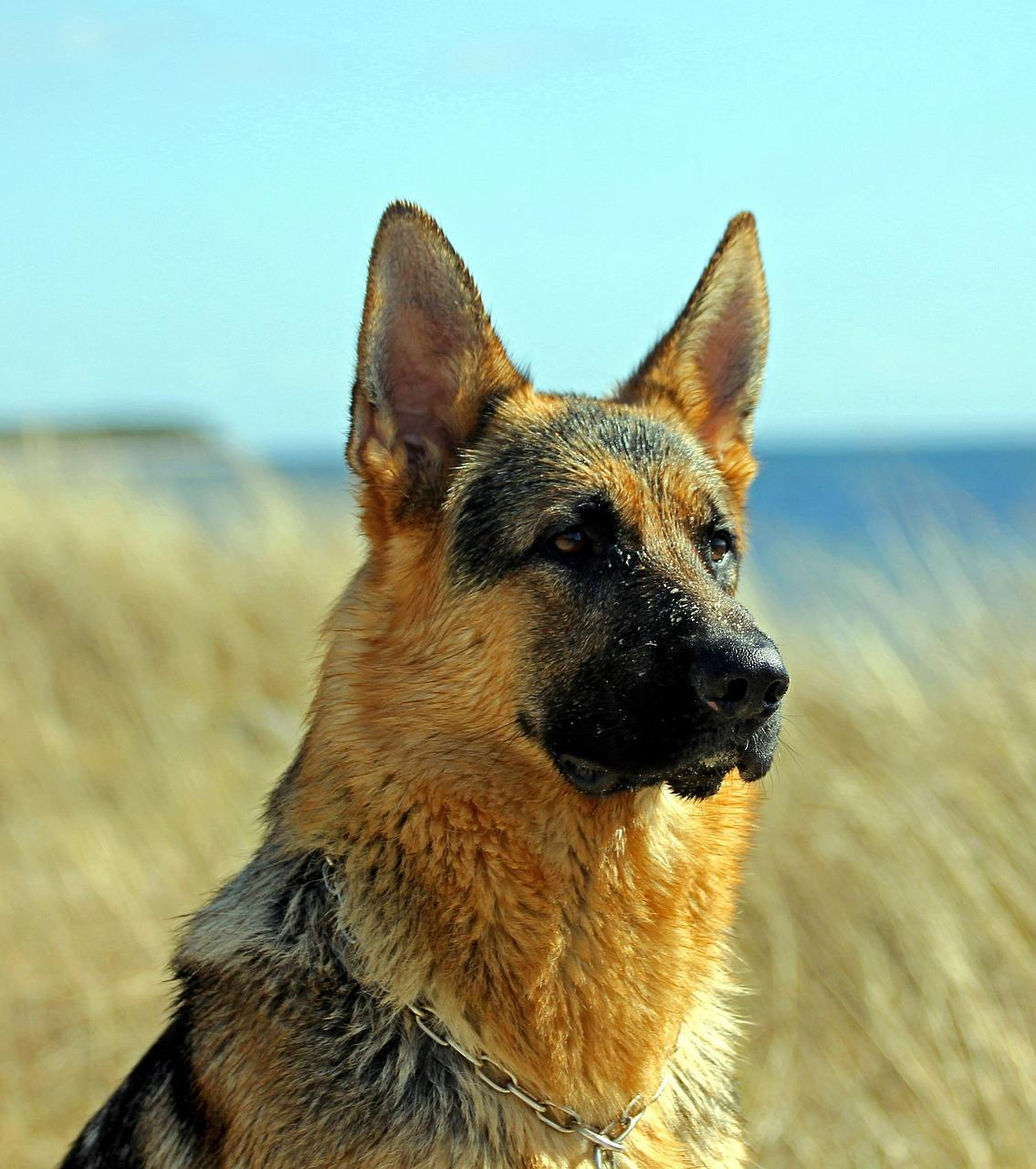german_shepherd: (358, 192, 819, 839)
